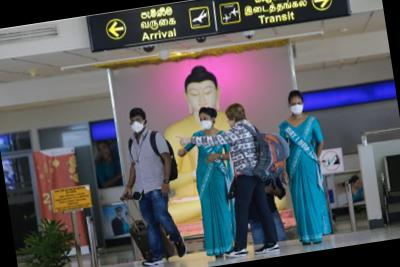with_mask: (130, 116, 147, 134), (290, 99, 306, 116), (201, 115, 213, 131)
without_mask: (226, 113, 241, 130)
